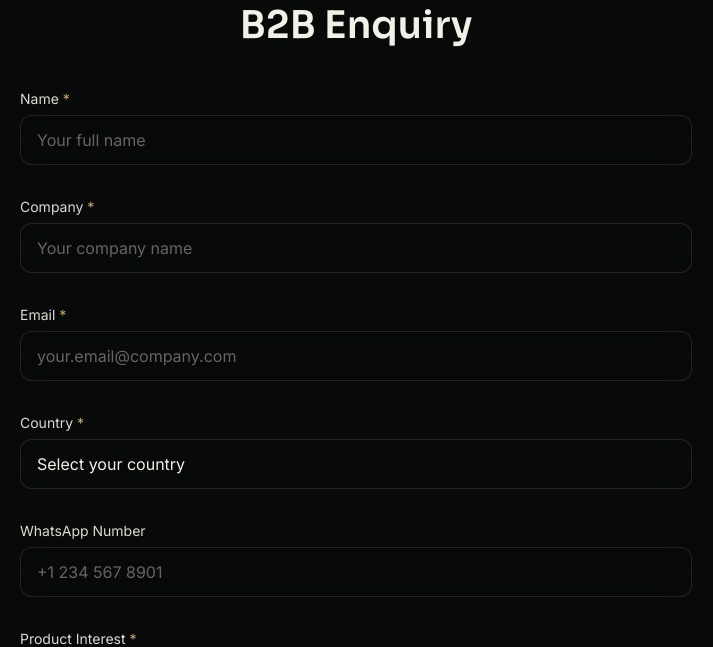
Test: EnquiryFormWrapper – Submission Flows › Submit button disabled during submission › prevents double-submit by disabling the button while submitting
Step 1. Type "Jane Smith" into the field labelled "Name *" → (356, 140), box [20, 115, 692, 165]
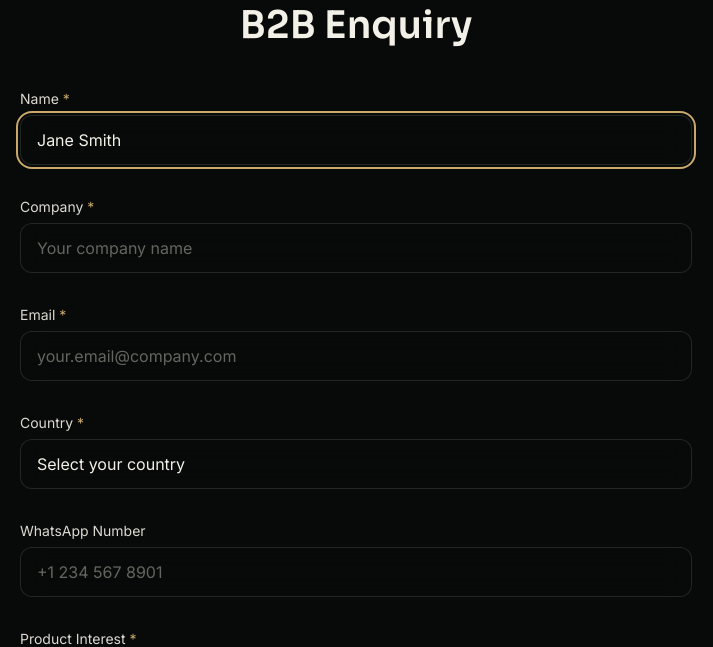
Step 2. Type "GreenPack Ltd" into the field labelled "Company *" → (356, 248), box [20, 223, 692, 273]
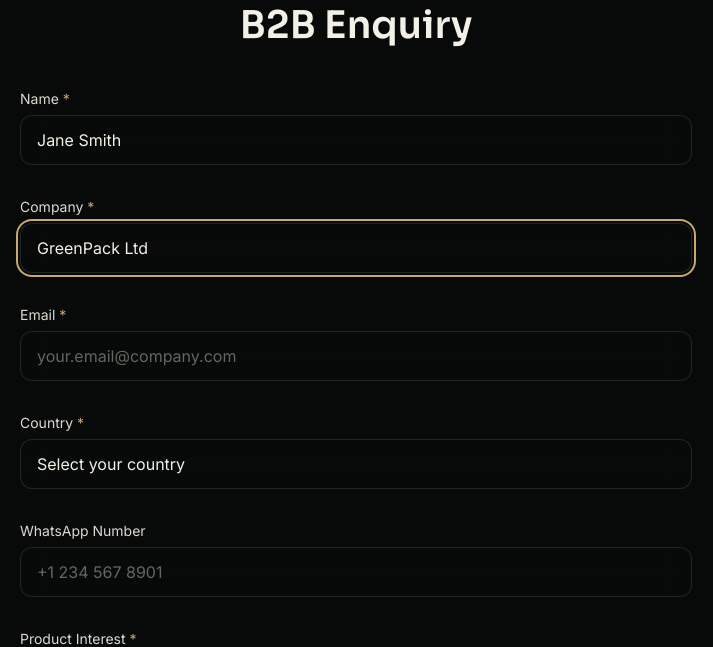
Step 3. Type "jane@greenpack.com" into the field labelled "Email *" → (356, 356), box [20, 331, 692, 381]
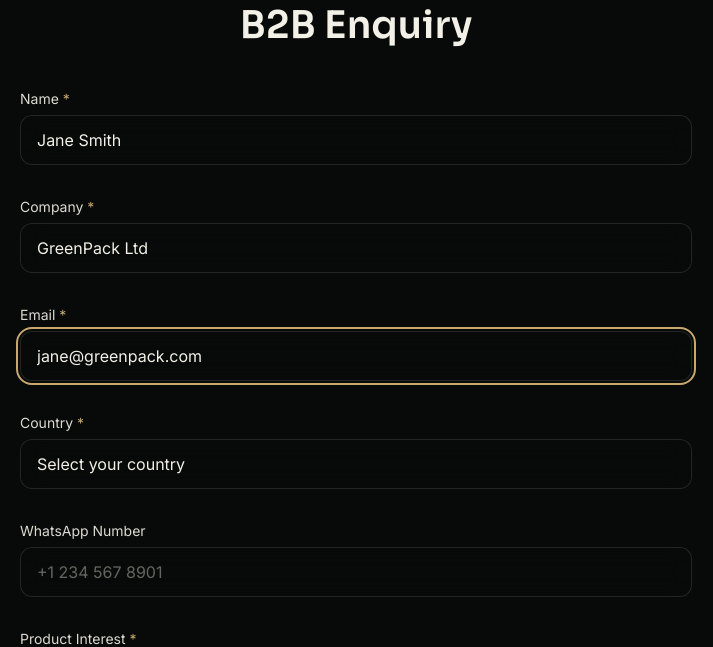
Step 4. Select "United States" in the dropdown labelled "Country *" → (356, 464), box [20, 439, 692, 489]
(page scrolled)
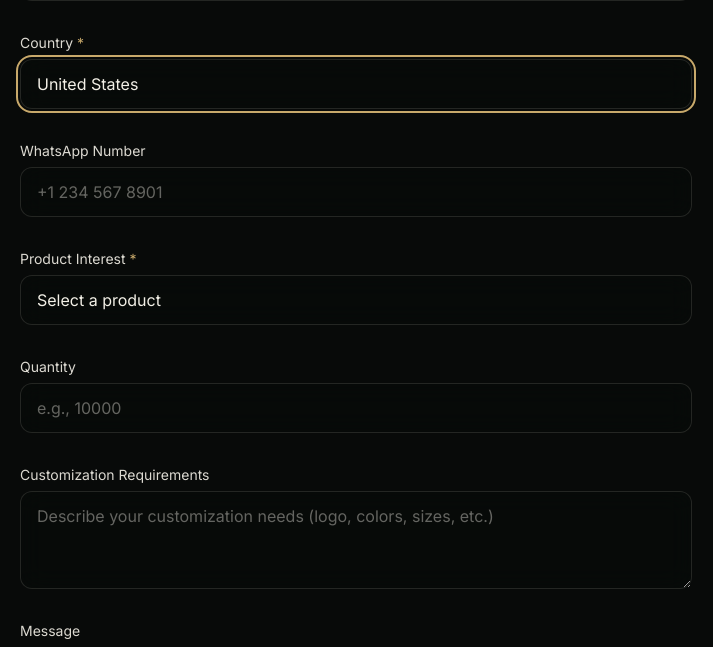
Step 5. Select "Paper Cups" in the dropdown labelled "Product Interest *" → (356, 300), box [20, 275, 692, 325]
(page scrolled)
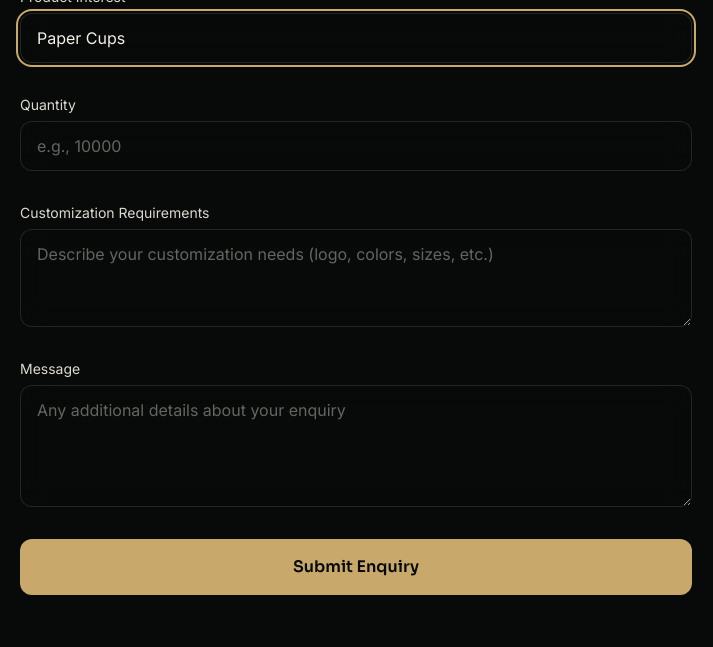
Step 6. Click the button "Submit Enquiry" → click(356, 567), box [20, 539, 692, 595]
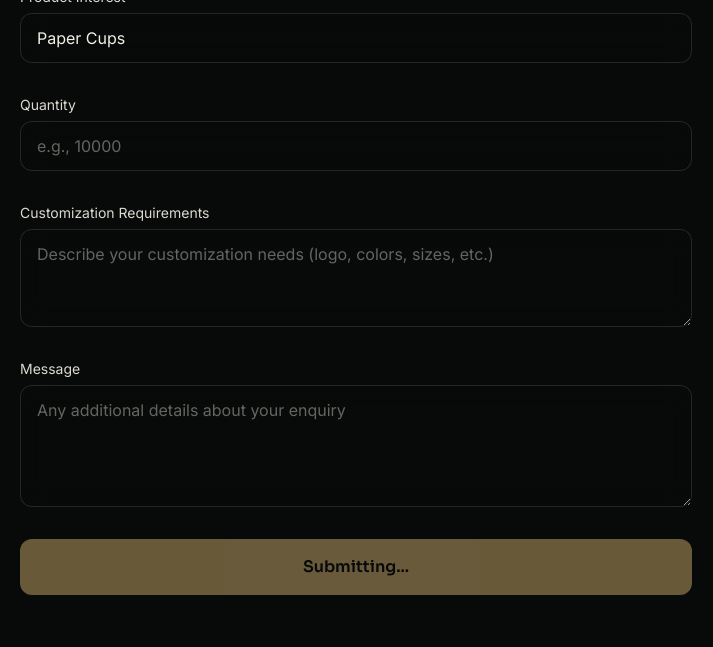
Now the button is disabled, box [20, 539, 692, 595]
Now the button shows "Submitting", box [20, 539, 692, 595]
